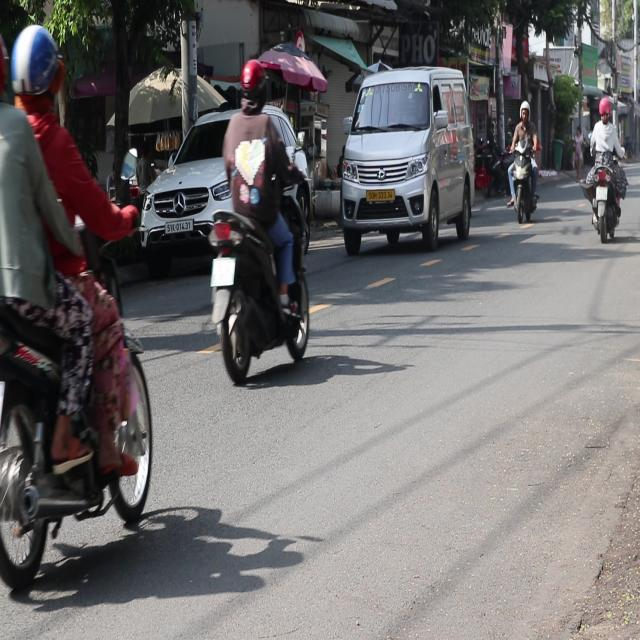helmet: (9, 22, 65, 118), (237, 57, 267, 111), (0, 21, 9, 104)
licenseplate: (0, 18, 157, 594), (204, 55, 314, 385)
nohelmet: (211, 257, 235, 285)
